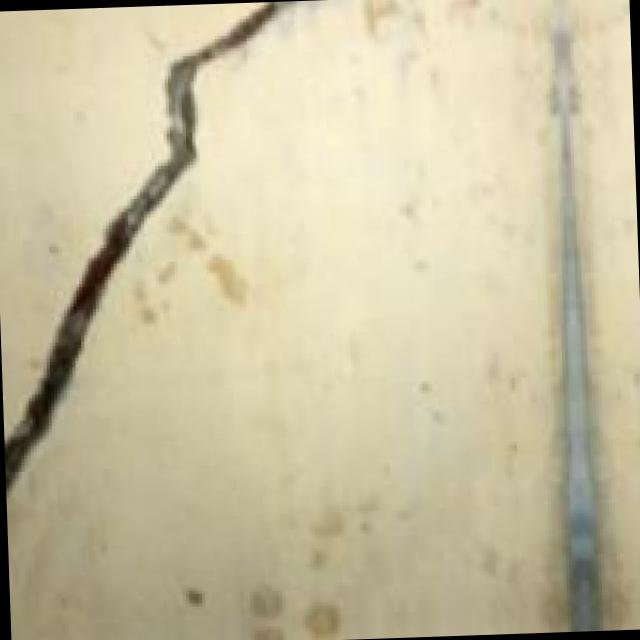crack: (0, 0, 356, 555)
